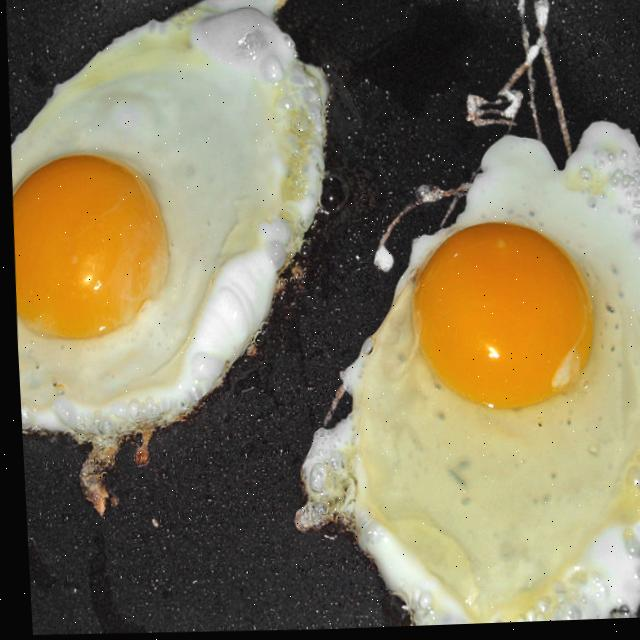鸡蛋料理: (162, 72, 429, 423), (1, 6, 220, 259)
